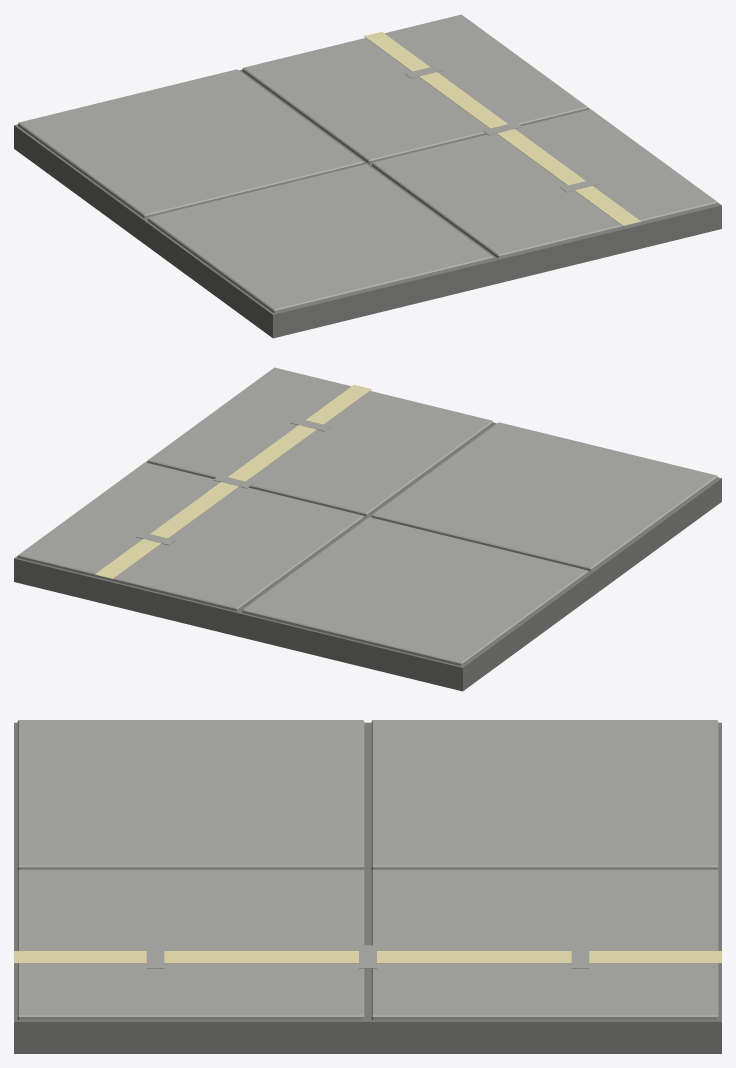
Rendered from floor_bk_slab.glb.
3 views of the same model, one above another, from view 1: azimuth 30°, elevation 25°; view 2: azimuth 150°, elevation 25°; view 3: azimuth 270°, elevation 25° (orthographic). The views are drawn at different scales.
Visible parts, largest first — view 1: floor_bk_slab; view 2: floor_bk_slab; view 3: floor_bk_slab.
Boxes of the visible parts, bbox=[...] form: floor_bk_slab: bbox=[14, 14, 721, 338]; floor_bk_slab: bbox=[14, 367, 721, 691]; floor_bk_slab: bbox=[14, 720, 721, 1053].
Bounding box in the file's own units: 4 × 0.233 × 4.
